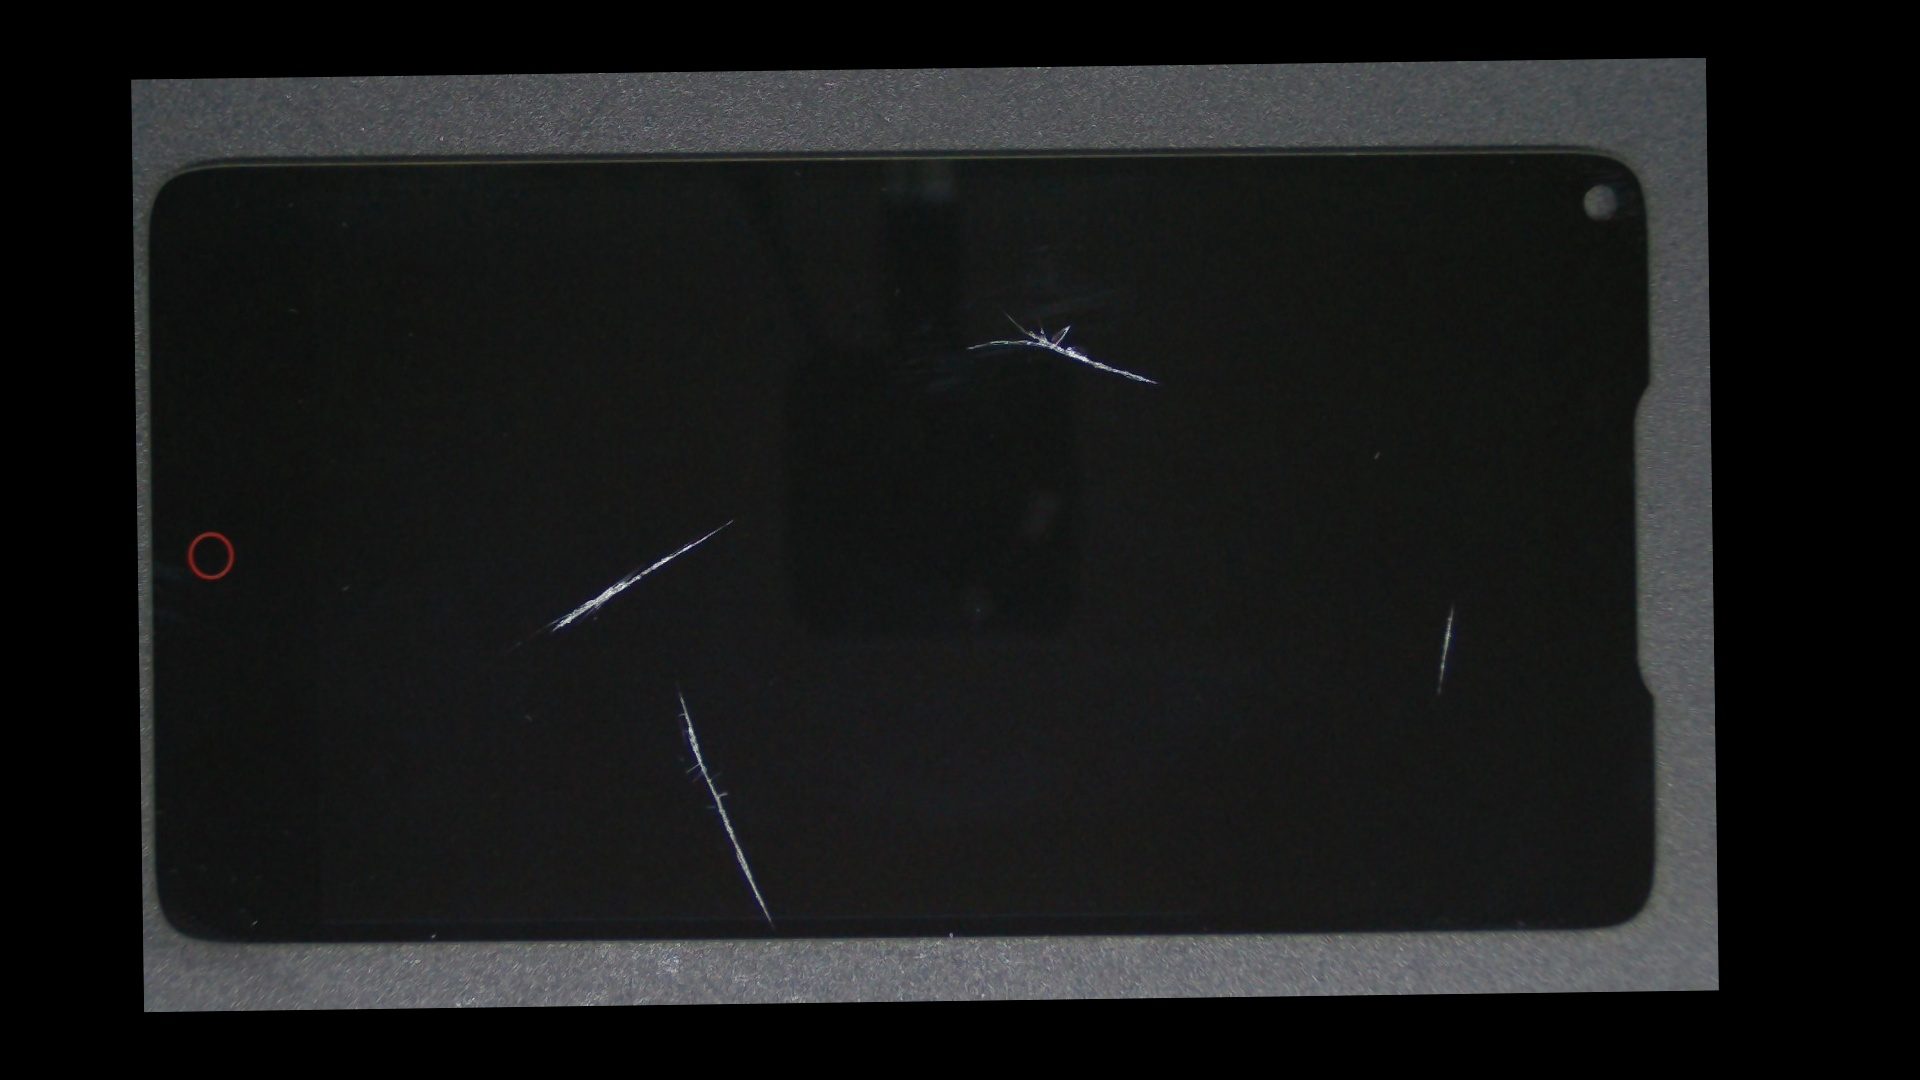oil: (793, 331, 1717, 891), (406, 380, 955, 1009), (433, 290, 1033, 746), (567, 185, 1444, 444)
